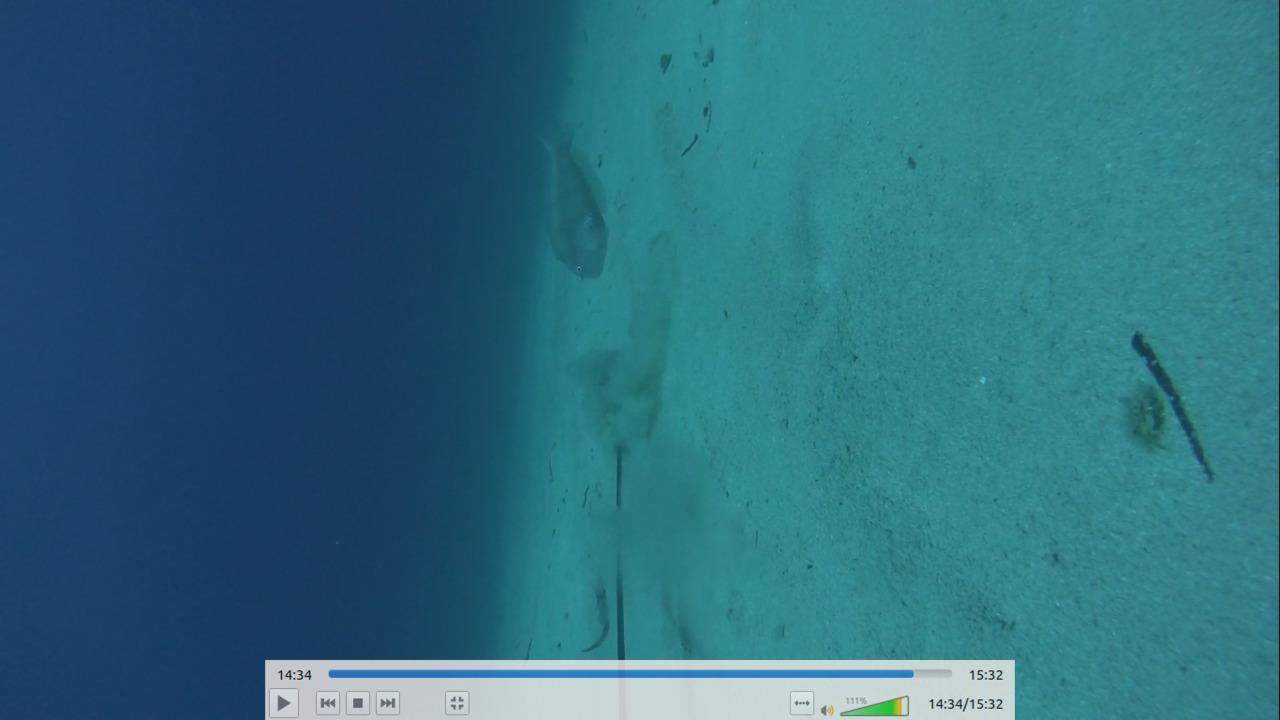raor: (534, 119, 620, 289)
